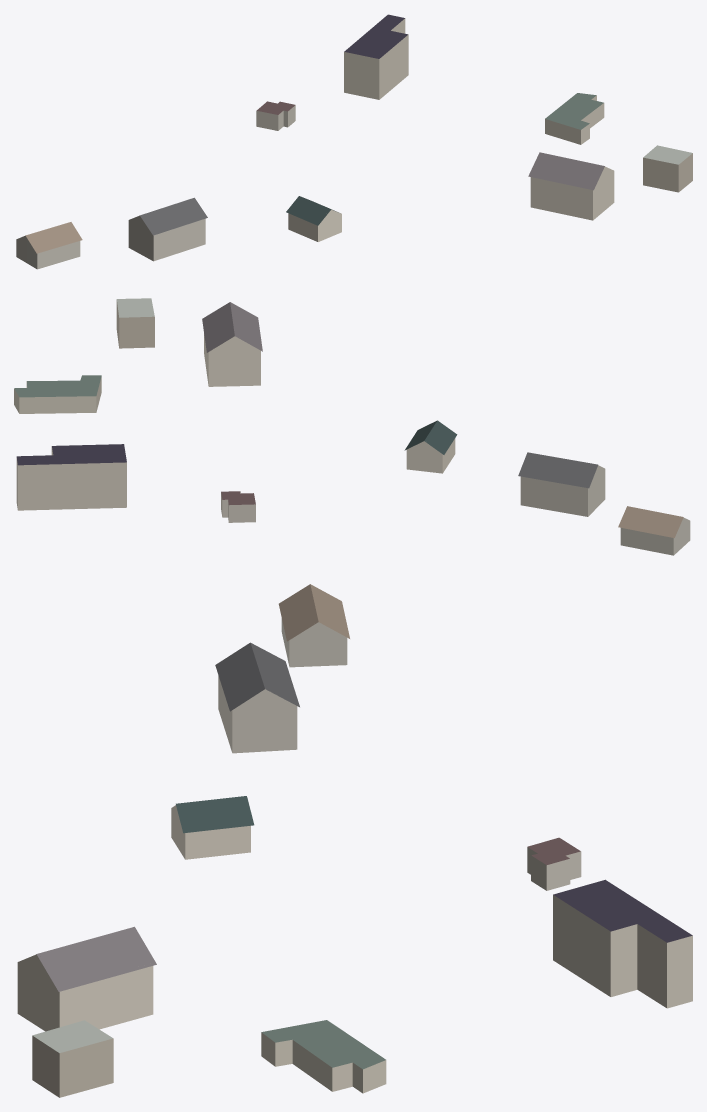
3 renders of one model, top to bottom at view 1: azimuth 30°, elevation 25°; view 2: azimuth 150°, elevation 25°; view 3: azimuth 270°, elevation 25°, orthographic. The views are drawn at different scales.
Parts seen in each view (by area): view 1: tuile; view 2: tuile; view 3: tuile.
Boxes of the visible parts, bbox=[...] form: tuile: bbox=[16, 14, 692, 269]; tuile: bbox=[14, 298, 690, 555]; tuile: bbox=[17, 584, 692, 1097].
Size of the model in its own units: 140 by 11.87 by 86.83.
